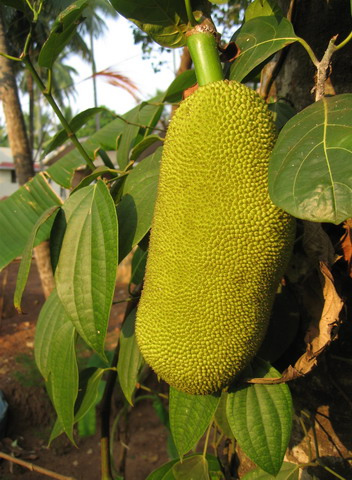jackfruit: (134, 24, 299, 397)
